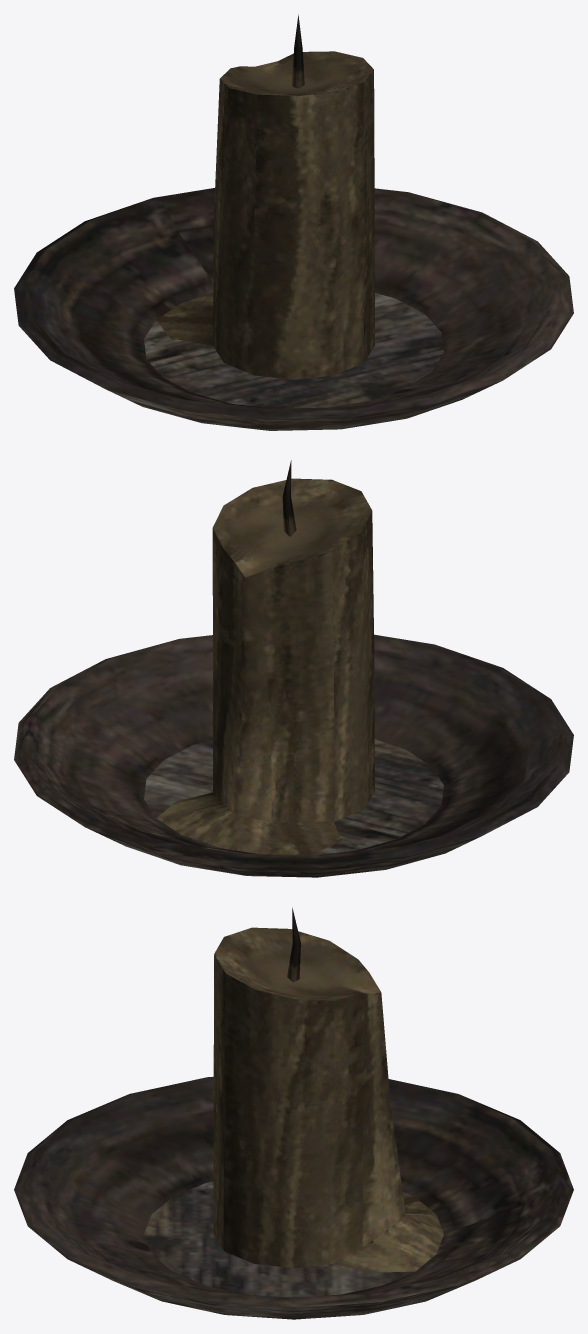
Rendered from G3_Object_Candle_01.obj.
3 renders of one model, top to bottom at view 1: azimuth 30°, elevation 25°; view 2: azimuth 150°, elevation 25°; view 3: azimuth 270°, elevation 25°, orthographic.
Visible parts, largest first — view 1: G3_Object_Candle_01_0, G3_Object_Candle_01_1; view 2: G3_Object_Candle_01_0, G3_Object_Candle_01_1; view 3: G3_Object_Candle_01_0, G3_Object_Candle_01_1.
Part boxes in pixels (<box>): G3_Object_Candle_01_0: <box>14,188,573,430</box>; G3_Object_Candle_01_1: <box>156,14,374,379</box>; G3_Object_Candle_01_0: <box>14,634,573,877</box>; G3_Object_Candle_01_1: <box>156,460,374,855</box>; G3_Object_Candle_01_0: <box>14,1076,573,1319</box>; G3_Object_Candle_01_1: <box>213,907,443,1272</box>.
Size of the model in its own units: 0.2783 by 0.1903 by 0.2783.
